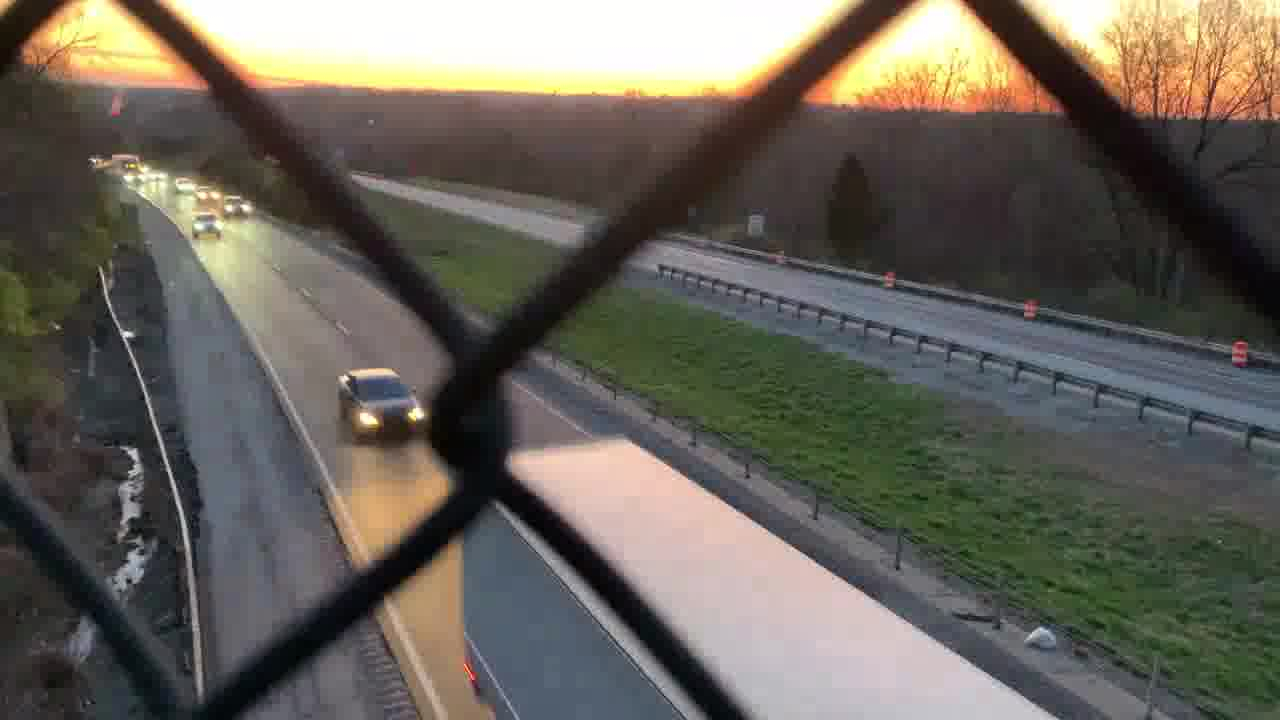smallCar: (332, 365, 429, 450)
